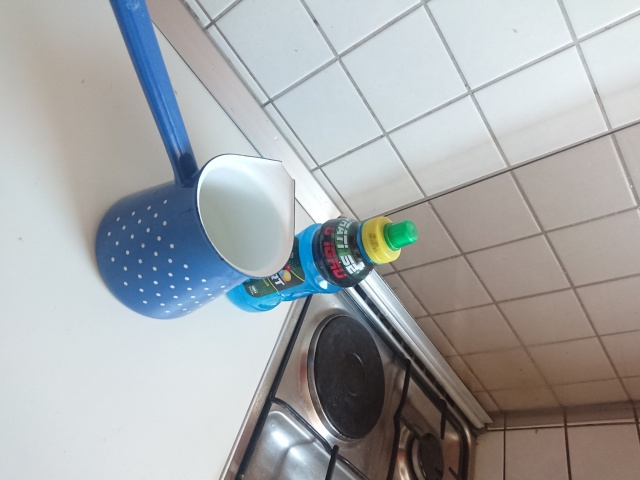Vindi Iso Sport Forest Strawberries 500mL: (222, 214, 419, 314)
